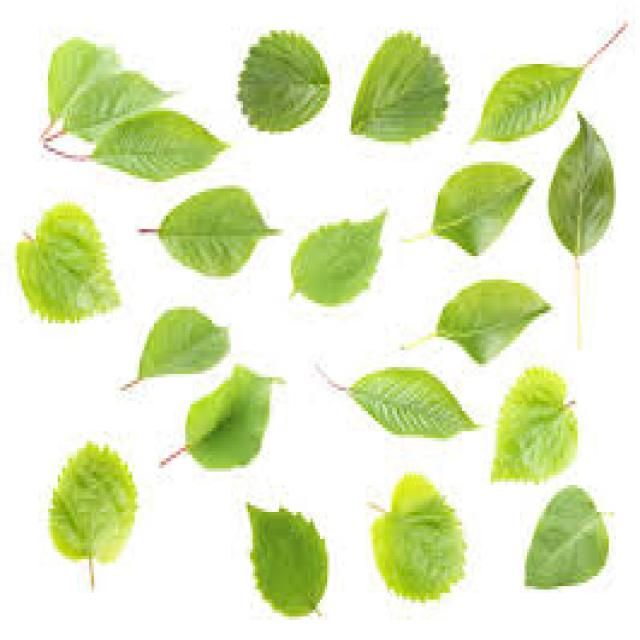leaves: (46, 39, 225, 179), (549, 115, 615, 344), (50, 443, 138, 585), (18, 205, 119, 321), (372, 474, 465, 599), (146, 189, 278, 276), (161, 366, 273, 468), (351, 31, 449, 141), (491, 367, 578, 480), (434, 280, 550, 363), (472, 60, 590, 141), (430, 163, 532, 255), (239, 31, 330, 130), (350, 367, 475, 437), (249, 506, 328, 615), (293, 212, 384, 305), (525, 490, 606, 587), (140, 308, 229, 379)
